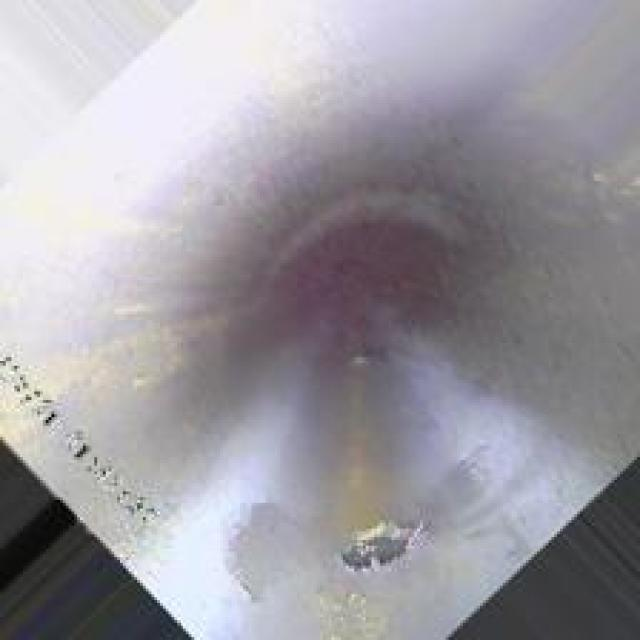ferrule: (337, 514, 429, 572)
